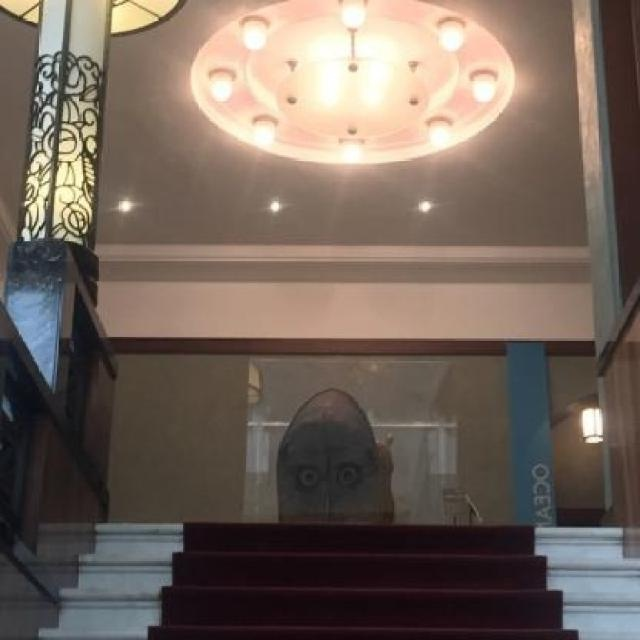stair: (35, 522, 640, 638)
